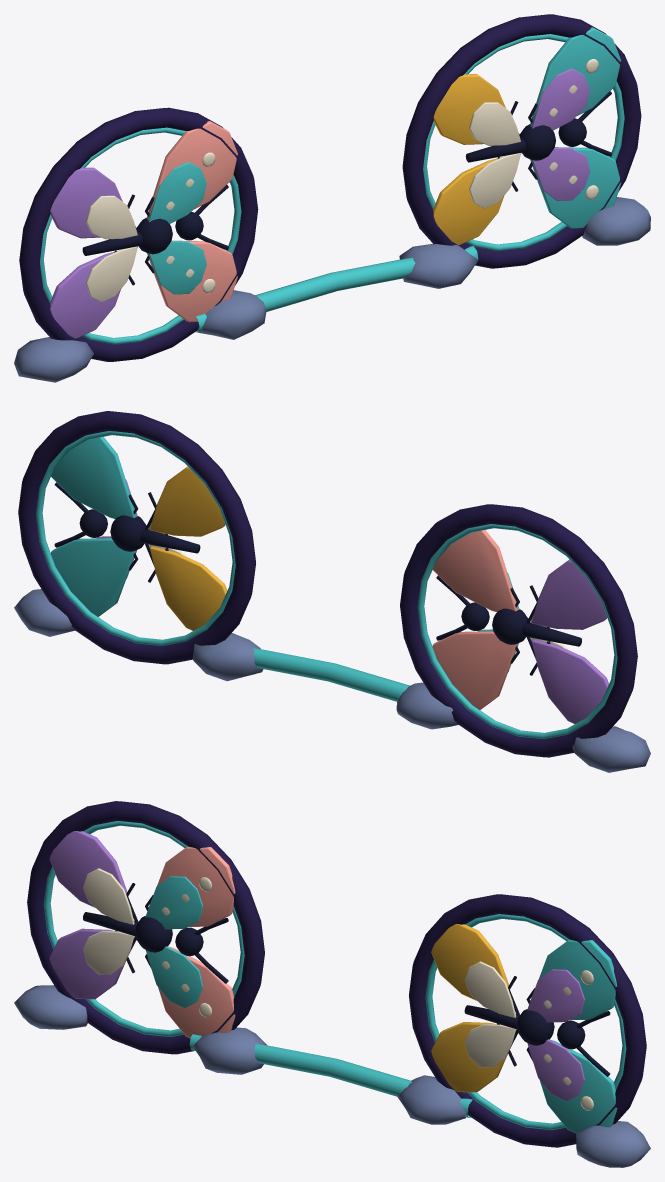
File: r047_butterfly_world_gate_transition_composition_gate_transition.glb
3 views of the same model, one above another, from view 1: azimuth 30°, elevation 25°; view 2: azimuth 150°, elevation 25°; view 3: azimuth 330°, elevation 25° (orthographic).
Parts seen in each view (by area): view 1: r047_butterfly_world_gate_transition_composition_gate_transi; view 2: r047_butterfly_world_gate_transition_composition_gate_transi; view 3: r047_butterfly_world_gate_transition_composition_gate_transi.
Part boxes in pixels (x1=…): r047_butterfly_world_gate_transition_composition_gate_transi: x1=14, y1=14, x2=650, y2=382; r047_butterfly_world_gate_transition_composition_gate_transi: x1=14, y1=411, x2=650, y2=772; r047_butterfly_world_gate_transition_composition_gate_transi: x1=14, y1=801, x2=650, y2=1167.
Bounding box in the file's own units: 18.07 × 6.8 × 1.73.
